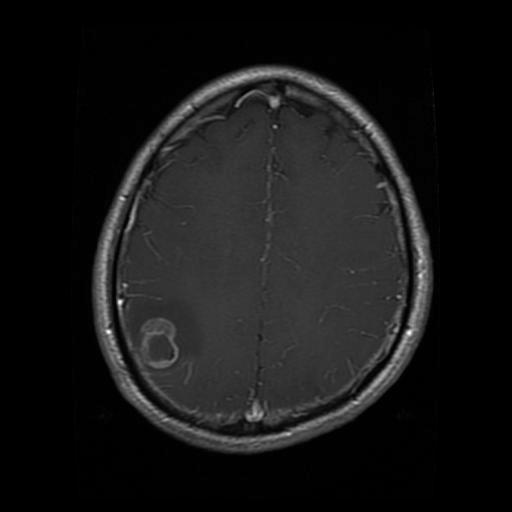Tumour-Glioma: (137, 307, 192, 373)
